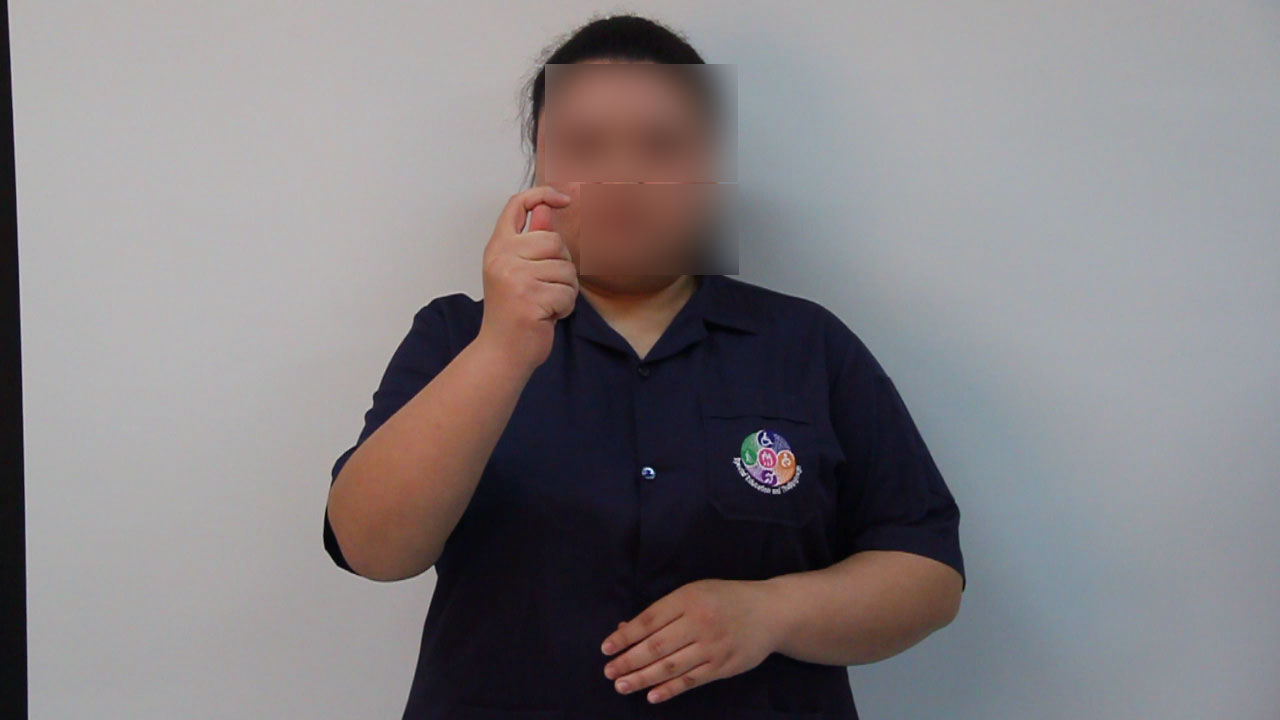or: (477, 185, 581, 371)
